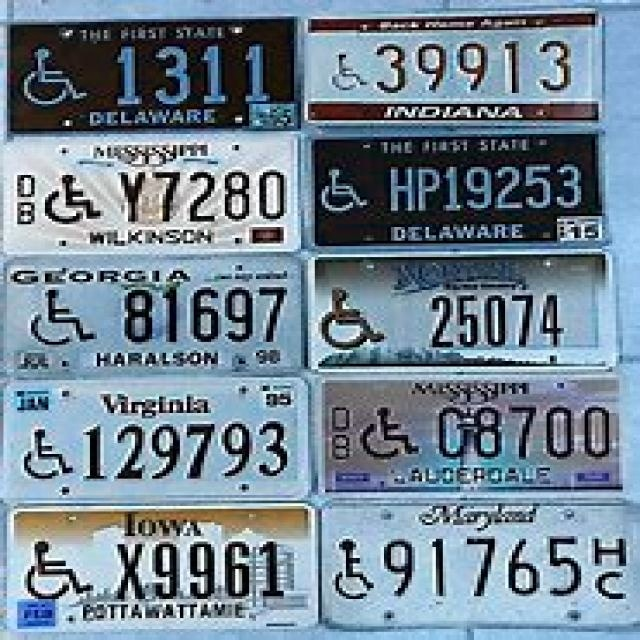ISA: (318, 288, 389, 354), (24, 541, 96, 602), (29, 290, 99, 348), (21, 50, 91, 107), (41, 174, 105, 229), (361, 405, 418, 462), (332, 538, 380, 603), (20, 428, 77, 482), (324, 168, 368, 215), (330, 50, 370, 94)
